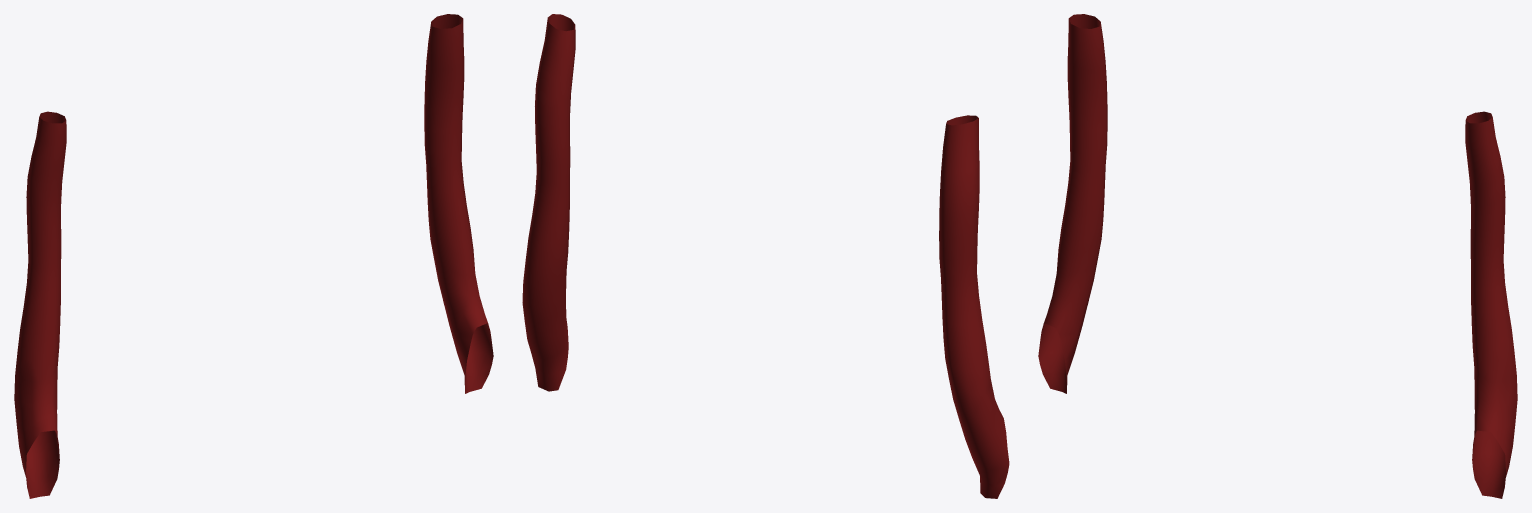
The model's file is Arteries addon.FBX.
3 views of the same model, side by side, from view 1: azimuth 30°, elevation 25°; view 2: azimuth 150°, elevation 25°; view 3: azimuth 330°, elevation 25° (orthographic).
Visible parts, largest first — view 1: R_Internal_Carotid_Artery, L_Internal_Carotid_Artery; view 2: R_Internal_Carotid_Artery, L_Internal_Carotid_Artery; view 3: L_Internal_Carotid_Artery, R_Internal_Carotid_Artery.
Part boxes in pixels (x1=…): R_Internal_Carotid_Artery: x1=14, y1=111, x2=66, y2=498; L_Internal_Carotid_Artery: x1=424, y1=14, x2=493, y2=393; R_Internal_Carotid_Artery: x1=939, y1=115, x2=1009, y2=498; L_Internal_Carotid_Artery: x1=522, y1=14, x2=575, y2=391; L_Internal_Carotid_Artery: x1=1465, y1=111, x2=1517, y2=498; R_Internal_Carotid_Artery: x1=1038, y1=14, x2=1107, y2=393.
Size of the model in its own units: 6.83 by 5.22 by 0.831.
